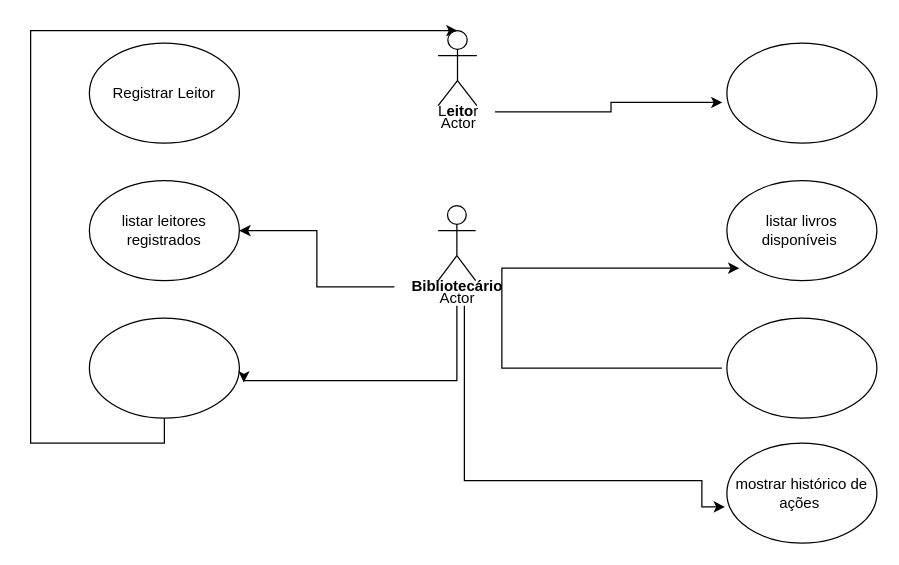
This 899x565 diagram has some shape labels left out. The shapes that lost their labels are listed below. From the top down, each one's centre as x and y in pixels, then its label:
(801,92): realizar devolução de livros
(163,367): realizar empréstimo de livros
(801,367): listar livros emprestados
